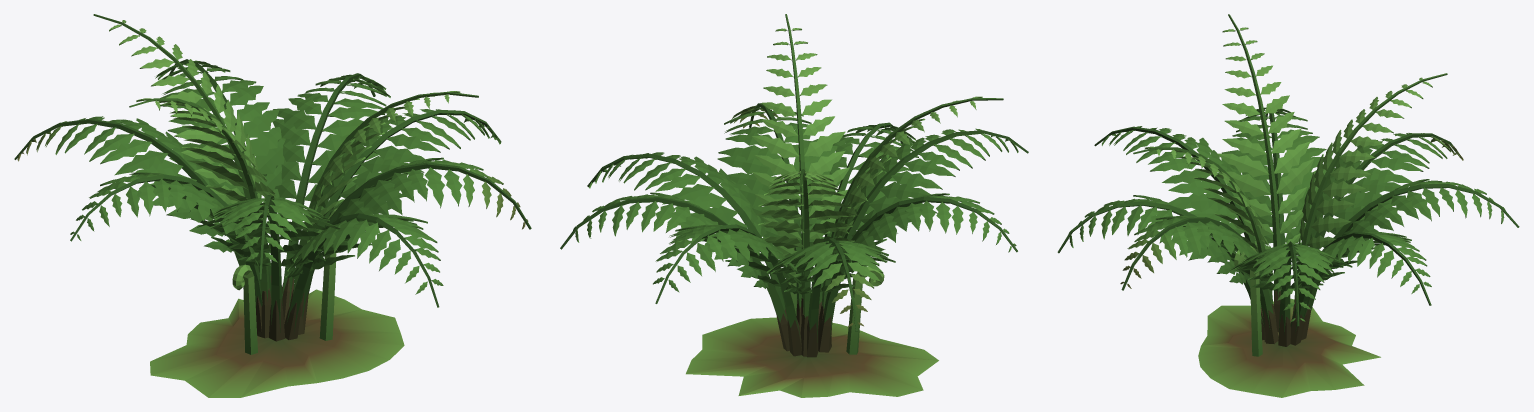
File: fern.glb
3 renders of one model, left to right at view 1: azimuth 30°, elevation 25°; view 2: azimuth 150°, elevation 25°; view 3: azimuth 270°, elevation 25°, orthographic. The views are drawn at different scales.
Parts seen in each view (by area): view 1: fern; view 2: fern; view 3: fern.
Boxes of the visible parts, x1=… form: fern: x1=14, y1=14, x2=531, y2=397; fern: x1=560, y1=14, x2=1028, y2=397; fern: x1=1057, y1=14, x2=1519, y2=397.
Bounding box in the file's own units: 0.8373 × 0.5454 × 0.8749.
